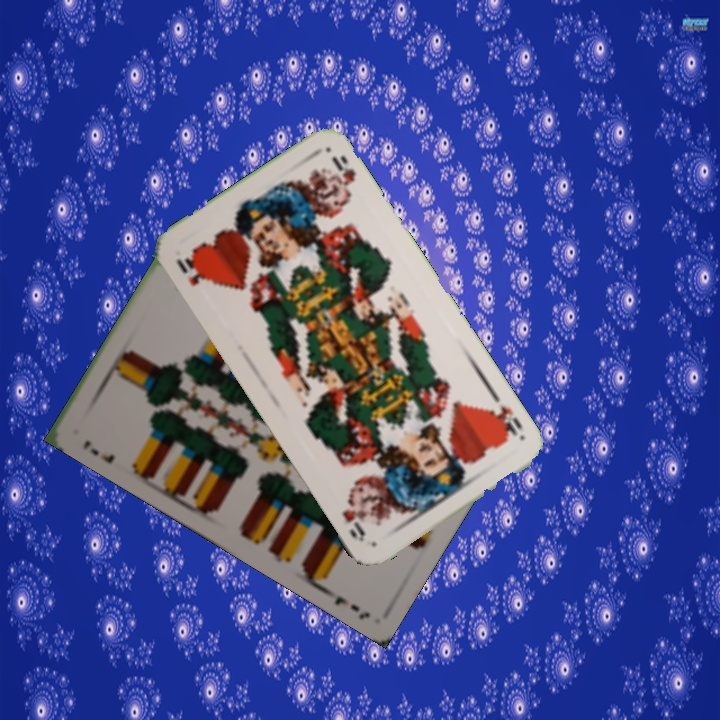E7: (79, 436, 117, 466)
HO: (483, 389, 526, 443), (172, 253, 208, 289)
